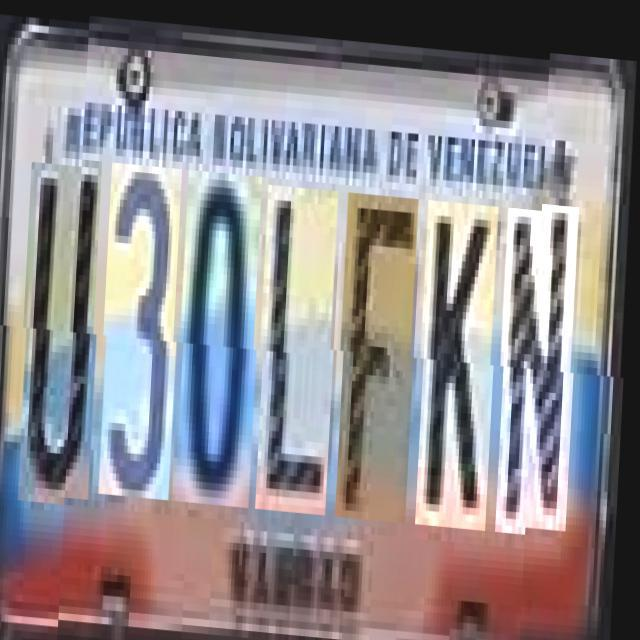3: (104, 160, 187, 497)
F: (341, 186, 424, 514)
K: (421, 192, 504, 520)
L: (260, 180, 344, 508)
N: (501, 198, 584, 526)
O: (180, 166, 267, 503)
U: (23, 155, 108, 498)
